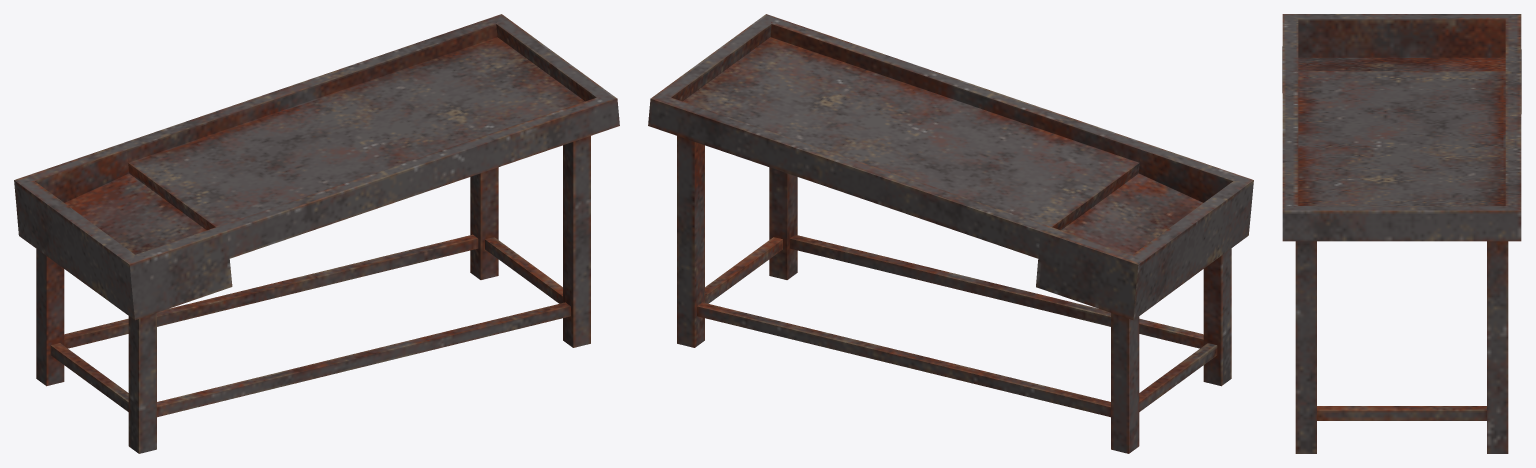
The model's file is autopsy_table.fbx.
3 renders of one model, left to right at view 1: azimuth 30°, elevation 25°; view 2: azimuth 150°, elevation 25°; view 3: azimuth 270°, elevation 25°, orthographic. The views are drawn at different scales.
Visible parts, largest first — view 1: autopsy_table; view 2: autopsy_table; view 3: autopsy_table.
Boxes of the visible parts, x1=… form: autopsy_table: x1=14, y1=14, x2=619, y2=453; autopsy_table: x1=648, y1=14, x2=1253, y2=453; autopsy_table: x1=1282, y1=14, x2=1521, y2=453.
Size of the model in its own units: 220 by 105 by 90.09.
Materials: 1 (1 with a texture image).
